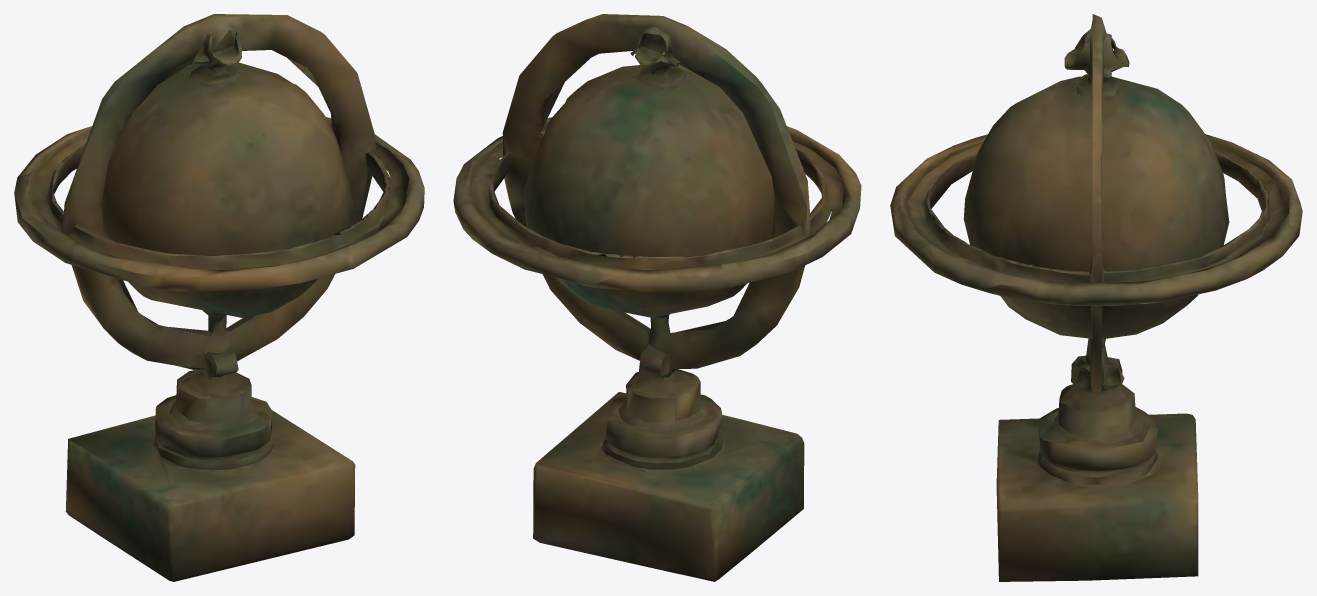
The model's file is chipped-bronze-armillary-v001.glb.
3 views of the same model, side by side, from view 1: azimuth 30°, elevation 25°; view 2: azimuth 150°, elevation 25°; view 3: azimuth 270°, elevation 25° (orthographic).
Parts seen in each view (by area): view 1: chipped-bronze-armillary; view 2: chipped-bronze-armillary; view 3: chipped-bronze-armillary.
Part boxes in pixels (box(x1,y1,x2,y2)): chipped-bronze-armillary: box(14, 14, 424, 581); chipped-bronze-armillary: box(453, 14, 861, 581); chipped-bronze-armillary: box(890, 14, 1302, 581).
Size of the model in its own units: 0.8759 by 1.21 by 0.879.
1 material, 1 textured.
